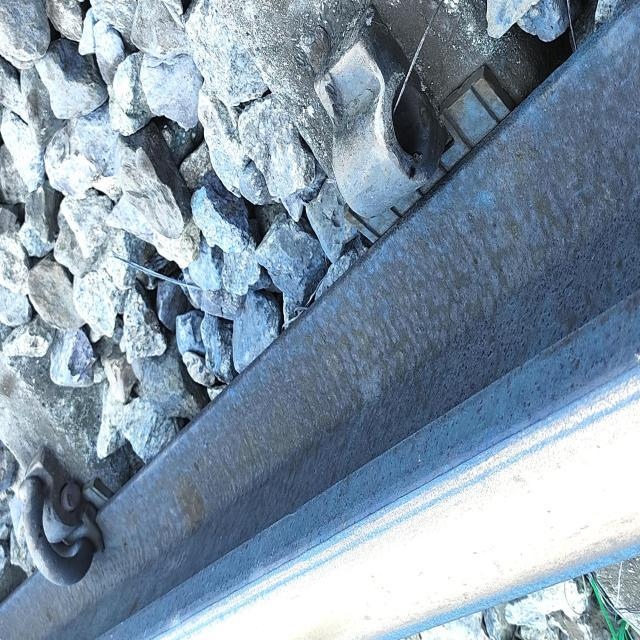Good Fasteners: (21, 451, 111, 583)
Missing Fastener: (292, 0, 446, 247)
